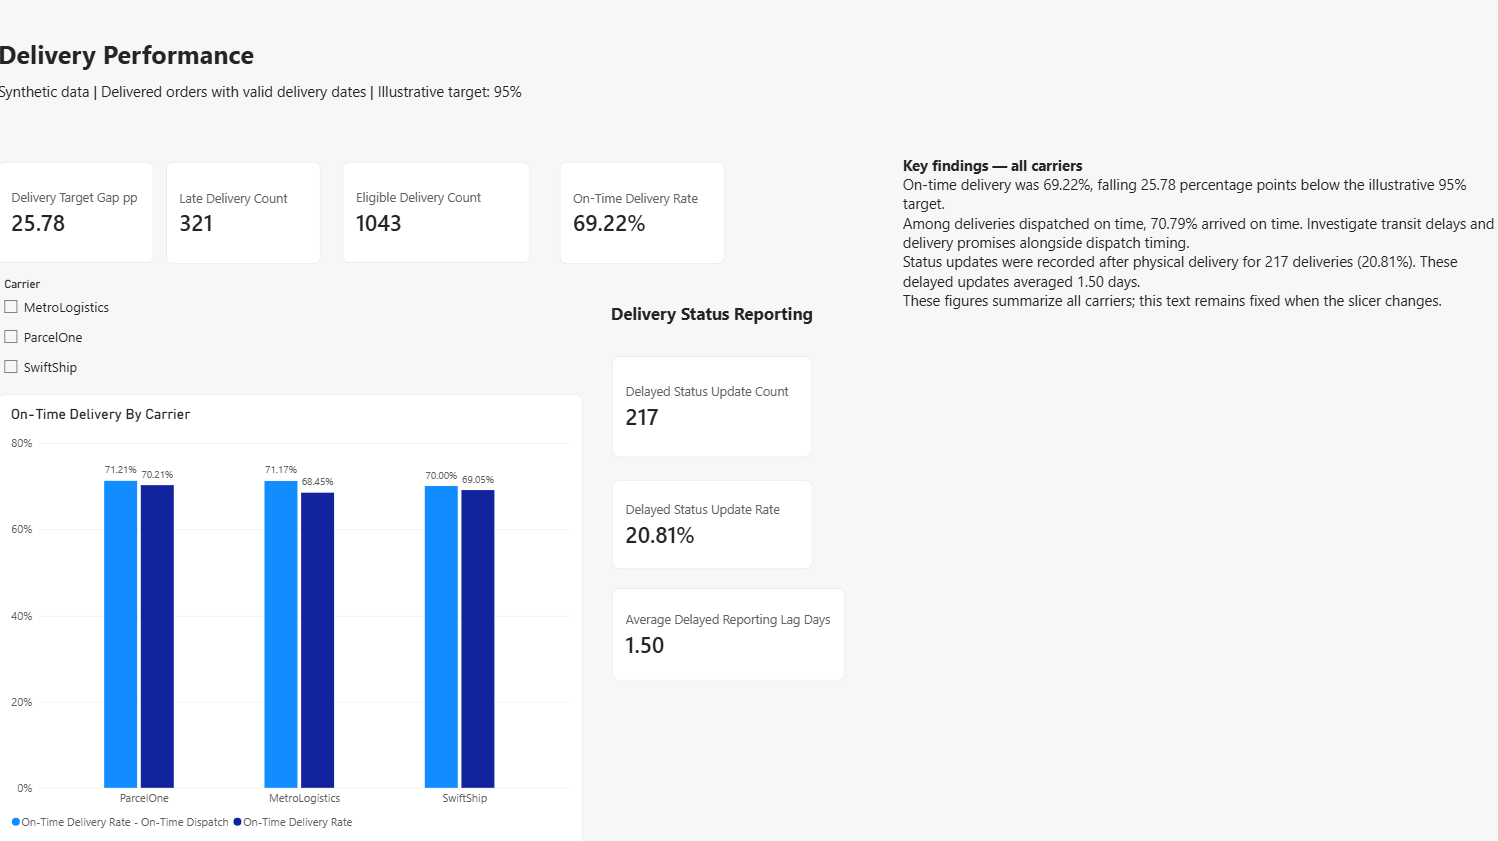

The dashboard page shown, as its layout file describes it:
{"tool":"powerbi","page":{"name":"Delivery Performance","canvas":[1920,1080],"ordinal":2},"visuals":[{"type":"cardVisual","fields":{"Data":["Deliveries.Eligible Delivery Count"]},"box":[440,207.5,238.6,129.3],"z":0},{"type":"cardVisual","fields":{"Data":["Deliveries.On-Time Delivery Rate"]},"box":[715,207.5,210,130],"z":1},{"type":"cardVisual","fields":{"Data":["Deliveries.Late Delivery Count"]},"box":[215,207.5,197.5,130],"z":2},{"type":"cardVisual","fields":{"Data":["Deliveries.Delivery Target Gap pp"]},"box":[0,207.5,198.4,129.3],"z":3},{"type":"textbox","box":[0,7.5,440,97.5],"z":4},{"type":"textbox","box":[0,105,960,102.5],"z":5},{"type":"clusteredColumnChart","title":"On-Time Delivery By Carrier","fields":{"Category":["Deliveries.Carrier_Clean"],"Y":["Deliveries.On-Time Delivery Rate - On-Time Dispatch","Deliveries.On-Time Delivery Rate"]},"box":[0,505,745,575],"z":6},{"type":"cardVisual","fields":{"Data":["Deliveries.Average Delayed Reporting Lag Days"]},"box":[782.5,750,296.5,118.2],"z":7},{"type":"cardVisual","fields":{"Data":["Deliveries.Delayed Status Update Rate"]},"box":[782.5,612.5,255,112.5],"z":8},{"type":"cardVisual","fields":{"Data":["Deliveries.Delayed Status Update Count"]},"box":[782.5,455,254.2,129.3],"z":9},{"type":"textbox","box":[715,385,322.5,45],"z":11},{"type":"slicer","fields":{"Values":["Deliveries.Carrier_Clean"]},"box":[0,355,293,150],"z":12},{"type":"textbox","box":[1152.5,180,767.5,250],"z":13}]}

Visuals, with their boxes in screenshot pixels (x1, y1, x2, y2), scaled from the page's 1920x1080 canvas onto the 1498x841 screenshot:
cardVisual - Deliveries.Eligible Delivery Count: 343 162 529 262
cardVisual - Deliveries.On-Time Delivery Rate: 558 162 722 263
cardVisual - Deliveries.Late Delivery Count: 168 162 322 263
cardVisual - Deliveries.Delivery Target Gap pp: 0 162 155 262
textbox: 0 6 343 82
textbox: 0 82 749 162
"On-Time Delivery By Carrier" clusteredColumnChart: 0 393 581 840
cardVisual - Deliveries.Average Delayed Reporting Lag Days: 611 584 842 676
cardVisual - Deliveries.Delayed Status Update Rate: 611 477 809 565
cardVisual - Deliveries.Delayed Status Update Count: 611 354 809 455
textbox: 558 300 809 335
slicer - Deliveries.Carrier_Clean: 0 276 229 393
textbox: 899 140 1497 335
